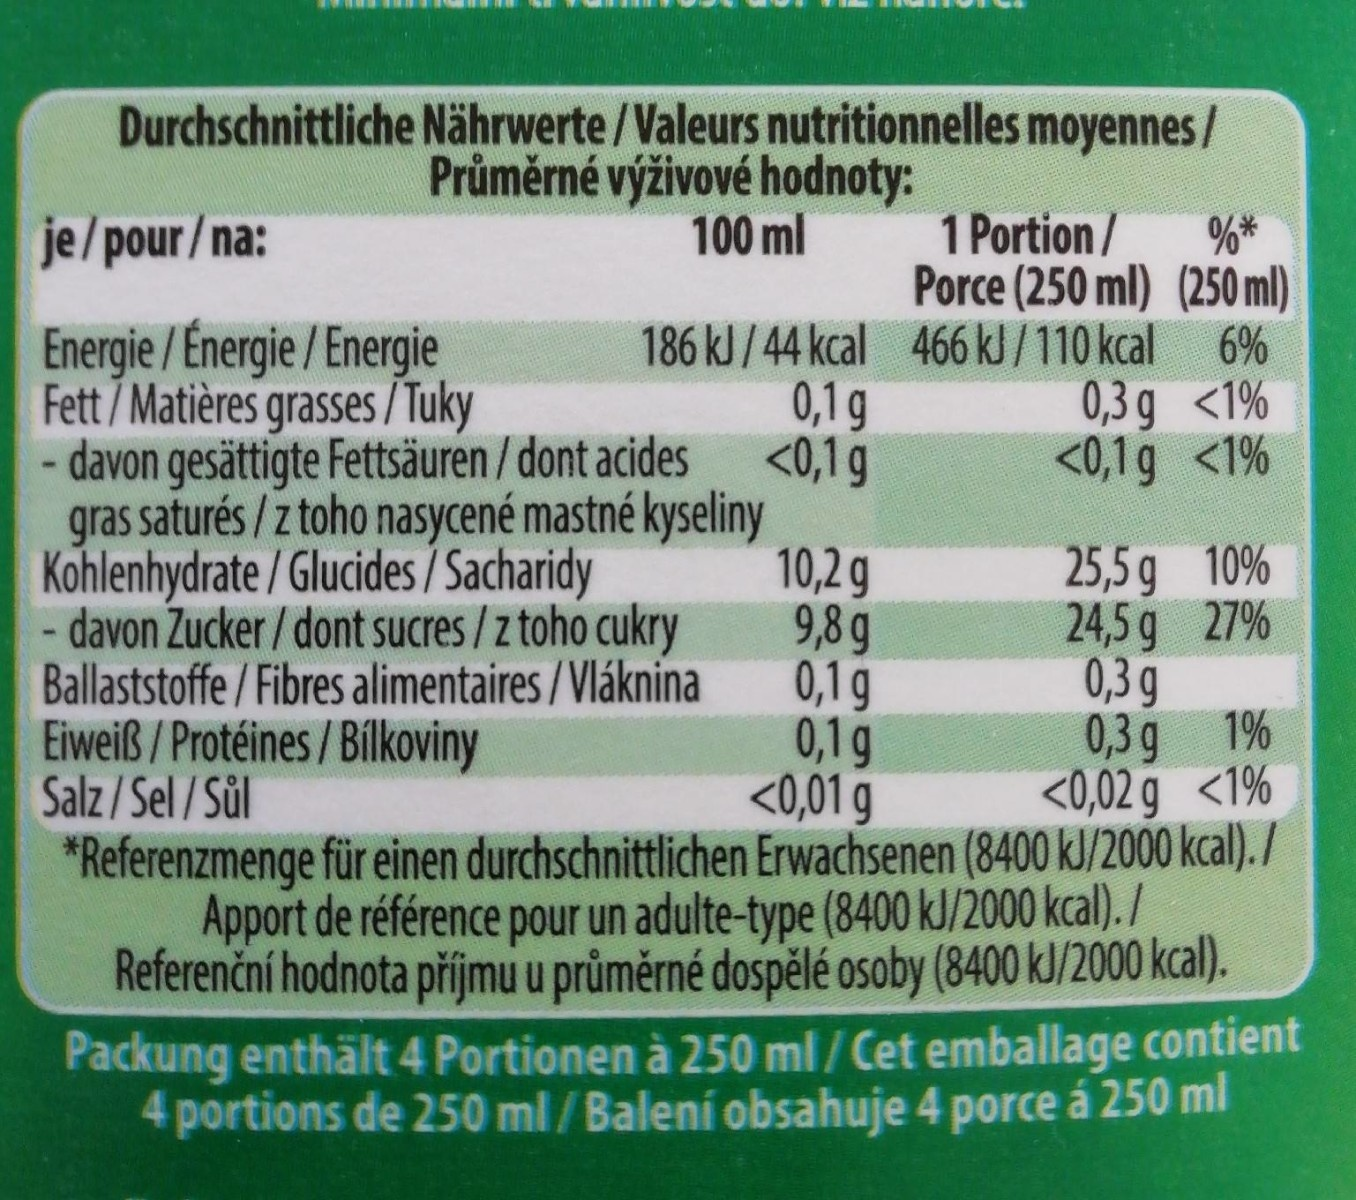column: (28, 214, 639, 827), (906, 208, 1171, 831), (646, 211, 890, 831), (1186, 207, 1295, 820)
table: (25, 215, 1302, 824)
